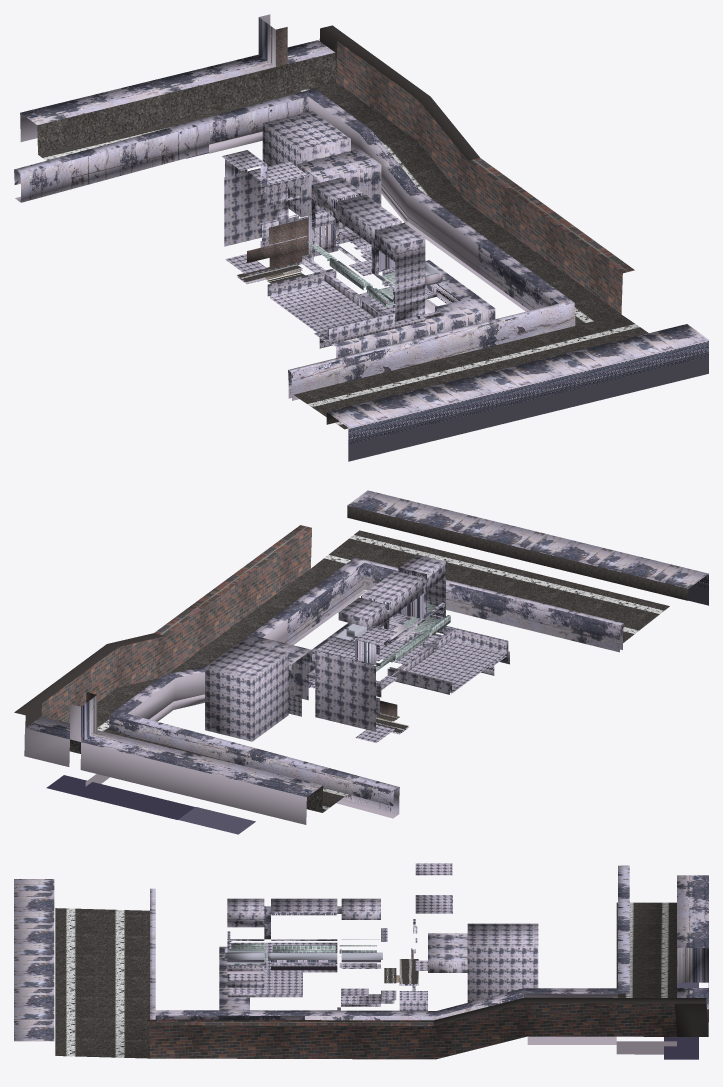
The model's file is decor3.obj.
3 renders of one model, top to bottom at view 1: azimuth 30°, elevation 25°; view 2: azimuth 150°, elevation 25°; view 3: azimuth 270°, elevation 25°, orthographic. The views are drawn at different scales.
Parts seen in each view (by area): view 1: decor3_Cube.013; view 2: decor3_Cube.013; view 3: decor3_Cube.013.
Boxes of the visible parts, left/top/right/bottom form: decor3_Cube.013: left=14, top=14, right=708, bottom=461; decor3_Cube.013: left=14, top=490, right=708, bottom=834; decor3_Cube.013: left=14, top=863, right=708, bottom=1059.
Size of the model in its own units: 1537 by 468 by 2775.
5 materials, 5 textured.
